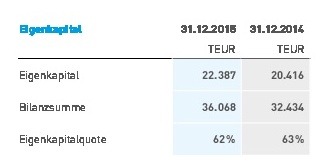table: (0, 0, 323, 168)
